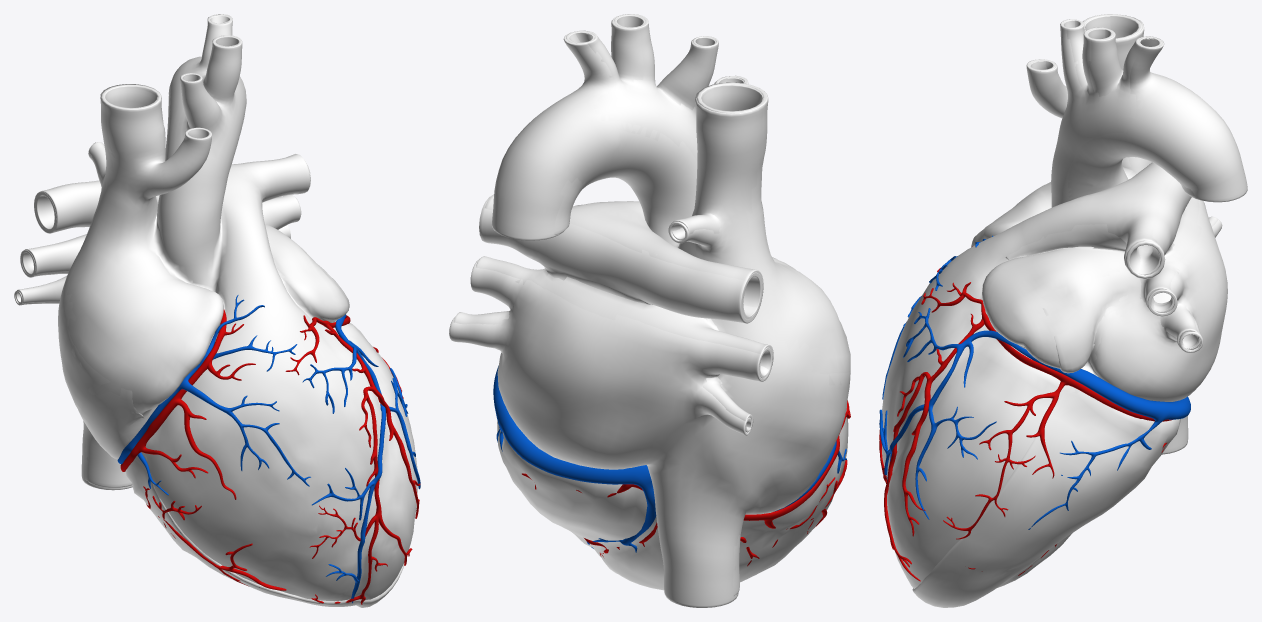
3 renders of one model, left to right at view 1: azimuth 30°, elevation 25°; view 2: azimuth 150°, elevation 25°; view 3: azimuth 270°, elevation 25°, orthographic. The views are drawn at different scales.
Parts seen in each view (by area): view 1: jnt_grp; view 2: jnt_grp; view 3: jnt_grp.
Part boxes in pixels (bbox=[...]): jnt_grp: bbox=[14, 14, 420, 607]; jnt_grp: bbox=[449, 14, 850, 607]; jnt_grp: bbox=[879, 14, 1247, 607].
Bounding box in the file's own units: 0.2345 × 0.4009 × 0.2467.
